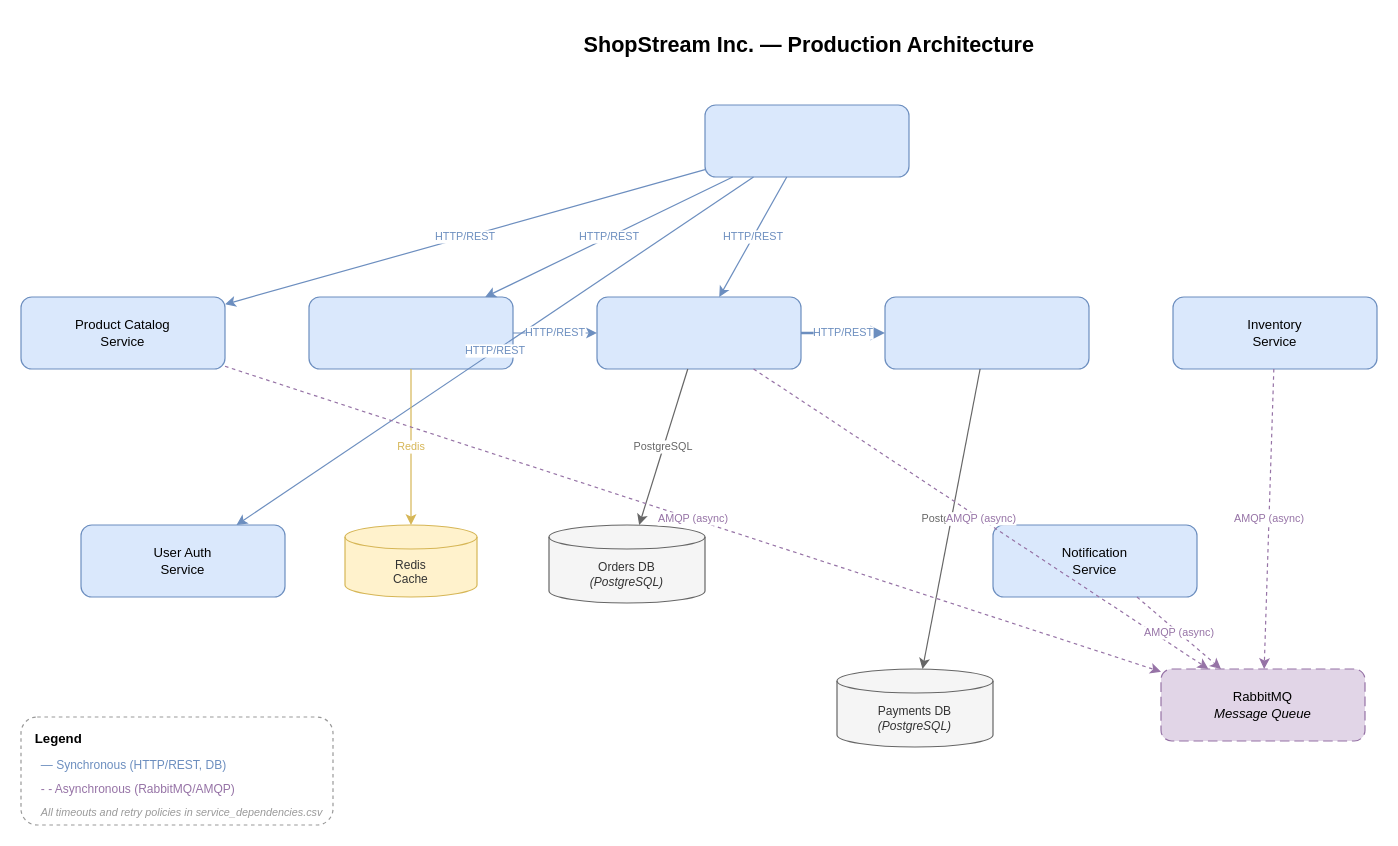
Image size: 1398x846. Some labels were removed from this diagram. Each missing label, with the centre of its shape:
API Gateway (Kong): point (806, 140)
Order Processing Service: point (698, 332)
Payment Service: point (986, 332)
Shopping Cart Service: point (410, 332)
